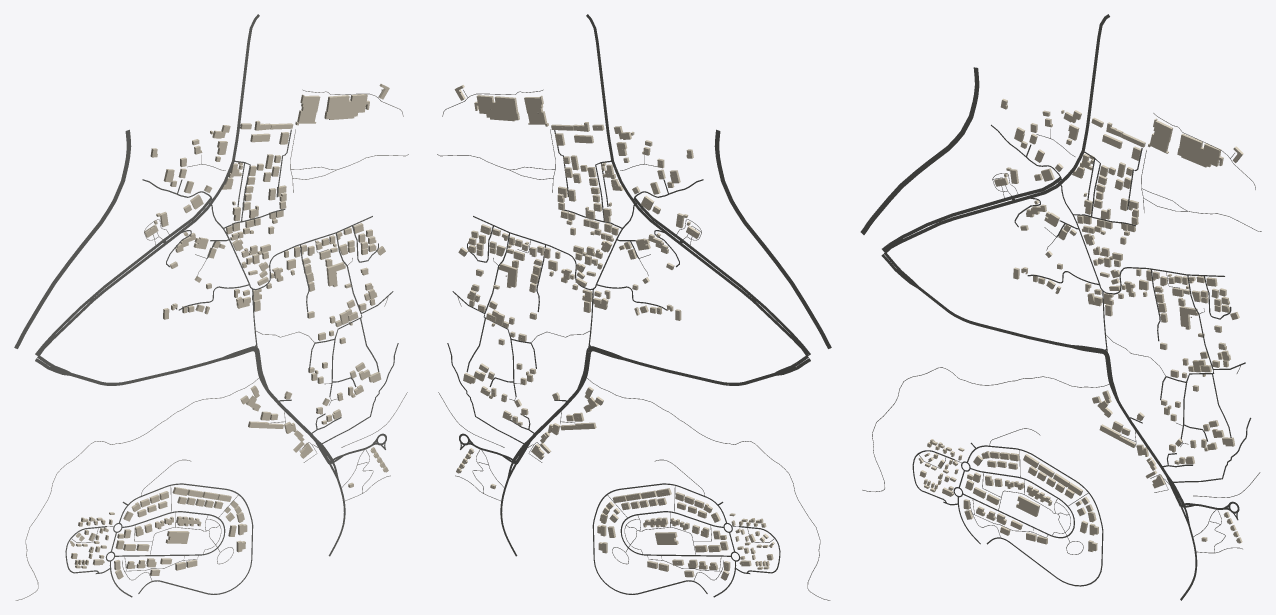
File: historic-palestine-10_22_3516_3168.glb
3 views of the same model, side by side, from view 1: azimuth 30°, elevation 25°; view 2: azimuth 150°, elevation 25°; view 3: azimuth 330°, elevation 25° (orthographic).
Parts seen in each view (by area): view 1: Road 3689.001, Road 60, Building_.091, Road 3689, Road בית הבחירה.001, Road 3367, Building_.092; view 2: Road 3689.001, Road 60, Building_.091, Road 3689, Road בית הבחירה.001, Road 3367, Building_.092; view 3: Road 3689.001, Road 60, Building_.091, Road 3689, Road בית הבחירה.001, Road 3367, Building_.092.
Part boxes in pixels (x1,y1,x2,y2): Road 3689.001: (43,14,259,348); Road 60: (14,129,131,348); Building_.091: (324,94,369,119); Road 3689: (41,197,212,347); Road בית הבחירה.001: (119,483,253,594); Road 3367: (70,357,222,385); Building_.092: (295,94,320,125); Road 3689.001: (586,14,802,348); Road 60: (714,129,831,348); Building_.091: (474,95,519,121); Road 3689: (633,197,804,347); Road בית הבחירה.001: (592,483,726,594); Road 3367: (623,357,775,385); Building_.092: (524,95,548,126); Road 3689.001: (890,14,1109,248); Road 60: (860,67,979,234); Building_.091: (1177,133,1223,167); Road 3689: (888,177,1061,246); Road בית הבחירה.001: (967,445,1103,586); Road 3367: (918,286,1071,347); Building_.092: (1148,118,1172,153).
Size of the model in its own units: 1077 by 1488 by 8.7.
